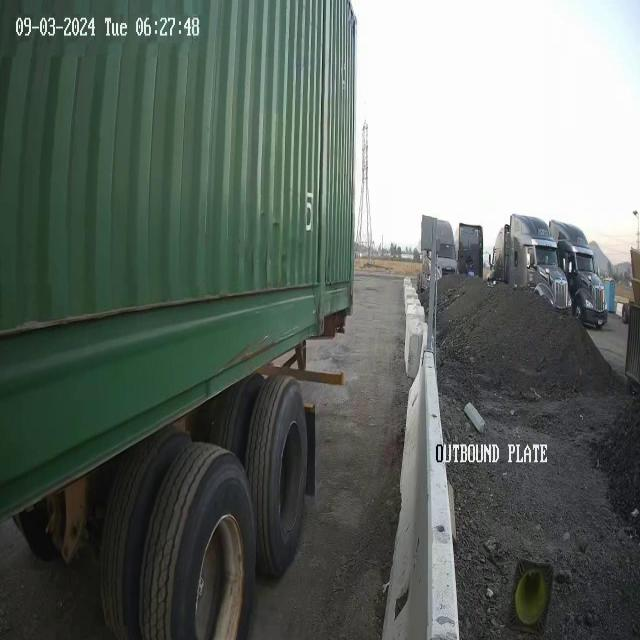CONTAINER: (0, 3, 357, 511)
